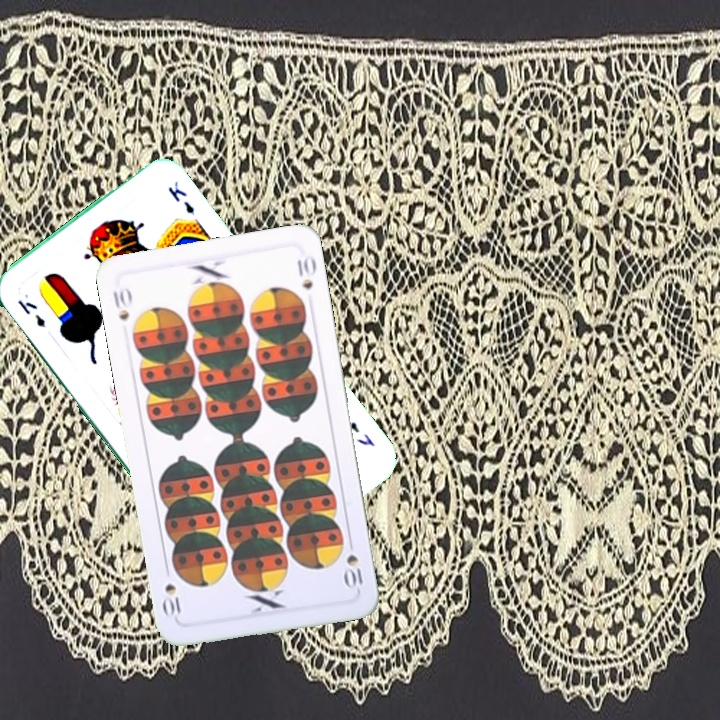EK: (14, 296, 49, 330), (346, 417, 377, 449)
S10: (108, 283, 135, 323), (342, 550, 365, 593)
